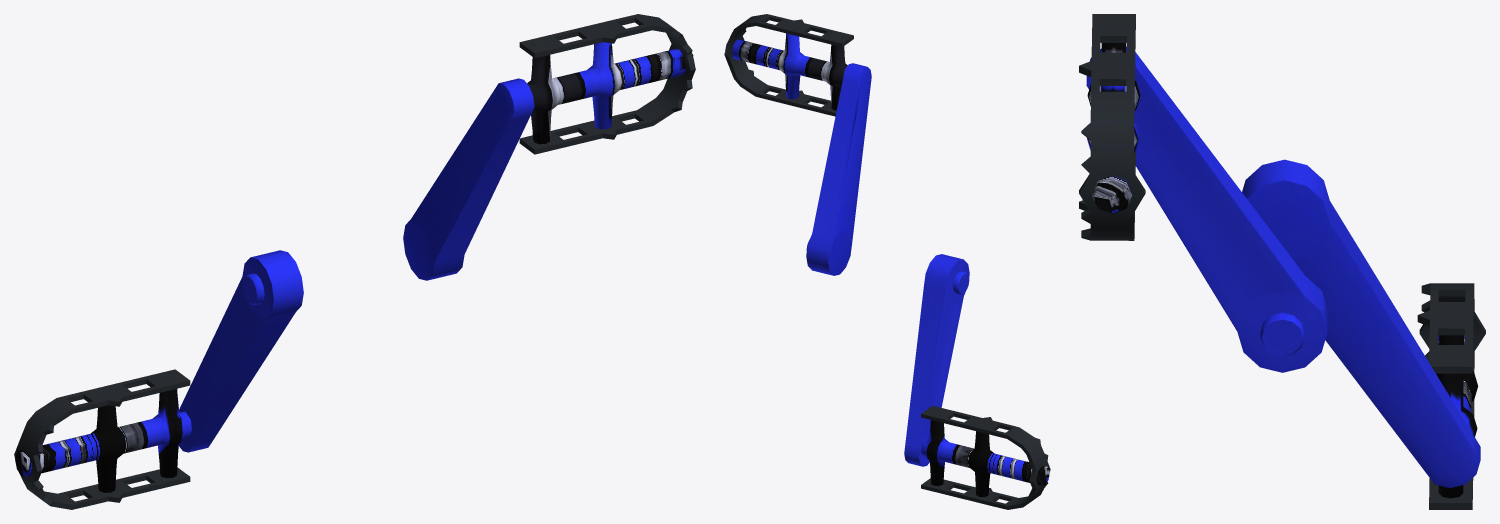
The model's file is pedalsCrankArms.obj.
3 views of the same model, side by side, from view 1: azimuth 30°, elevation 25°; view 2: azimuth 150°, elevation 25°; view 3: azimuth 270°, elevation 25° (orthographic). The views are drawn at different scales.
Parts seen in each view (by area): view 1: bicycle.002; view 2: bicycle.002; view 3: bicycle.002.
Part boxes in pixels (box(x1,y1,x2,y2)): bicycle.002: box(14, 14, 695, 509); bicycle.002: box(724, 14, 1050, 509); bicycle.002: box(1079, 14, 1485, 509).
Bounding box in the file's own units: 15.44 × 12.41 × 7.02.
